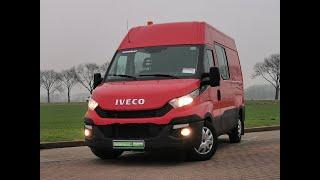vehicle: (84, 21, 245, 161)
